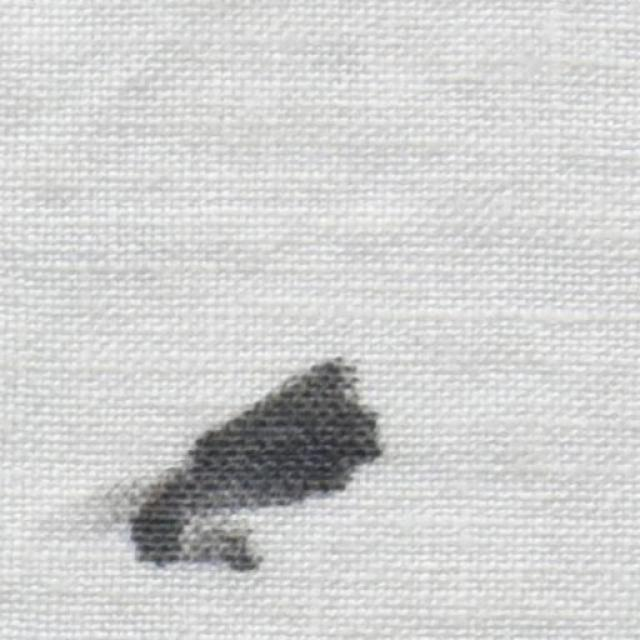Stain: (130, 359, 381, 571)
